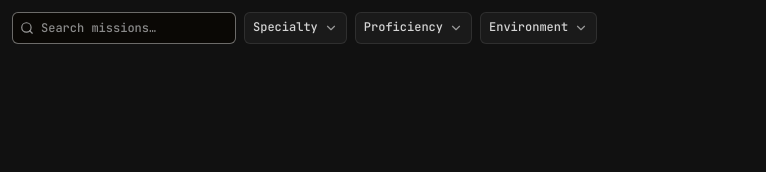
Test: FilterBar › filters by environment (lab/static) and echoes the selection as a chip
Step 1. Click the button "Environment" → coordinates (539, 28), box [480,12,597,44]
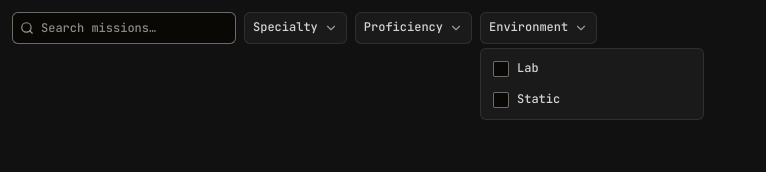
Step 2. Click the checkbox labelled "Lab" → coordinates (516, 68), box [493,60,539,77]
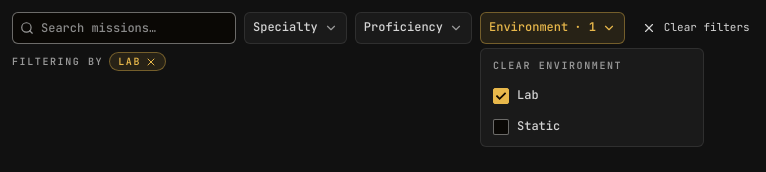
Result: the button with aria-label "Remove filter Lab" is shown at [109,52,166,71]
